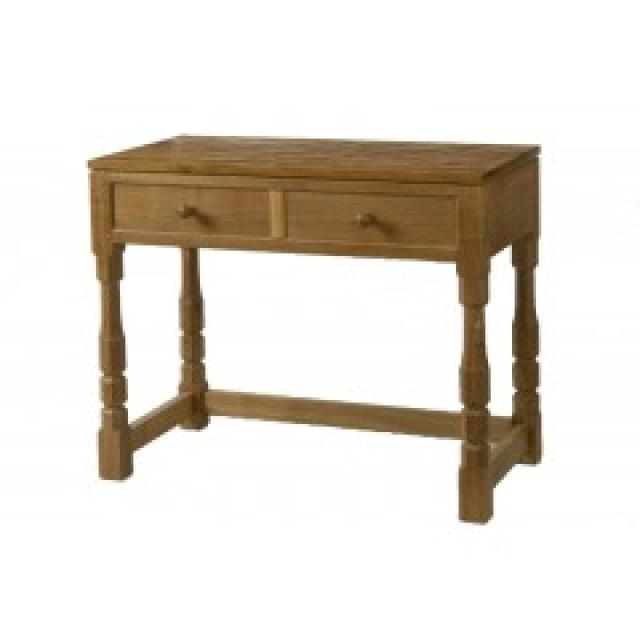table: (85, 130, 544, 522)
